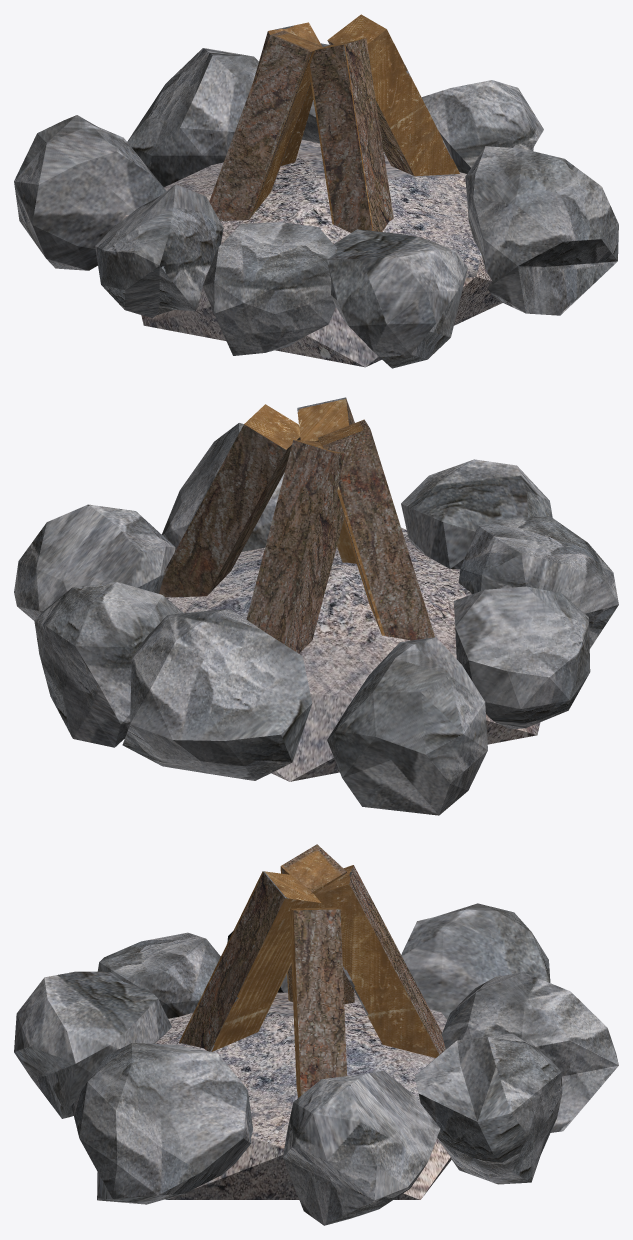
Rendered from campfire.obj.
The picture shows the model from 3 angles, top to bottom: view 1: azimuth 30°, elevation 25°; view 2: azimuth 150°, elevation 25°; view 3: azimuth 270°, elevation 25°; orthographic projection. The views are drawn at different scales.
Visible parts, largest first — view 1: Icosphere.008; view 2: Icosphere.008; view 3: Icosphere.008.
Part boxes in pixels (bbox=[...]): Icosphere.008: bbox=[14, 14, 618, 368]; Icosphere.008: bbox=[14, 397, 618, 815]; Icosphere.008: bbox=[14, 844, 618, 1225].
Size of the model in its own units: 3.53 by 2.08 by 3.77.
Materials: 1 (1 with a texture image).
